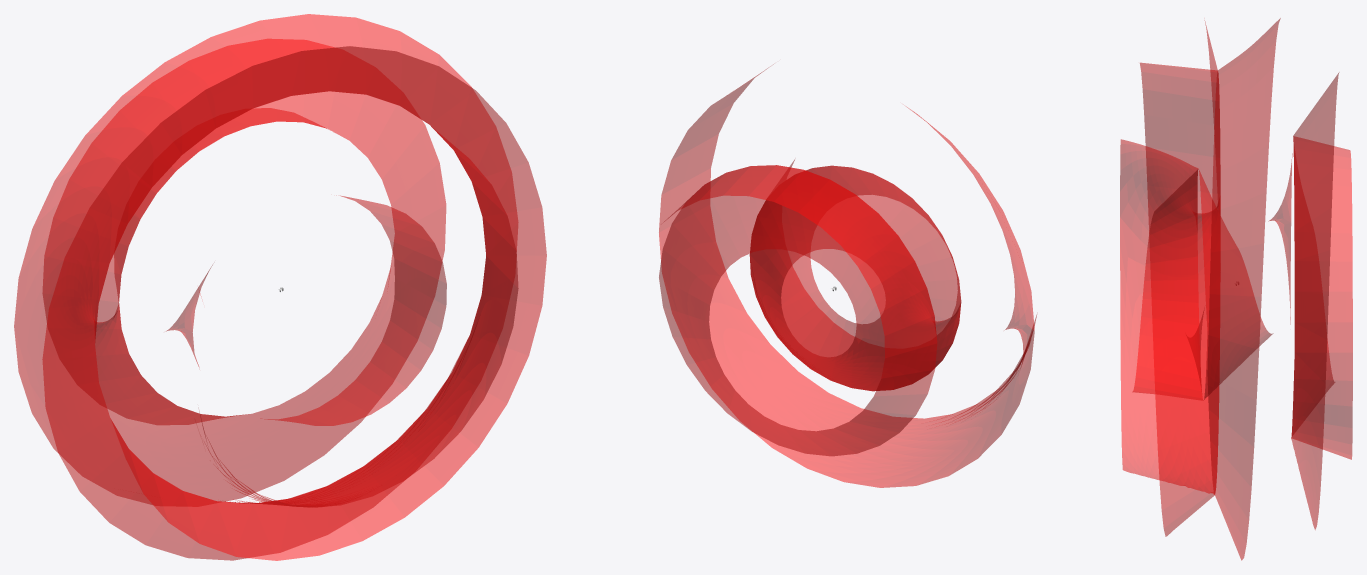
Rendered from l9_1_website3.glb.
The picture shows the model from 3 angles, left to right: view 1: azimuth 30°, elevation 25°; view 2: azimuth 150°, elevation 25°; view 3: azimuth 270°, elevation 25°; orthographic projection. The views are drawn at different scales.
Visible parts, largest first — view 1: l9_1; view 2: l9_1; view 3: l9_1.
Part boxes in pixels (x1=…): l9_1: x1=14, y1=14, x2=546, y2=560; l9_1: x1=659, y1=64, x2=1036, y2=487; l9_1: x1=1120, y1=18, x2=1352, y2=560.
Size of the model in its own units: 189 by 188 by 80.
